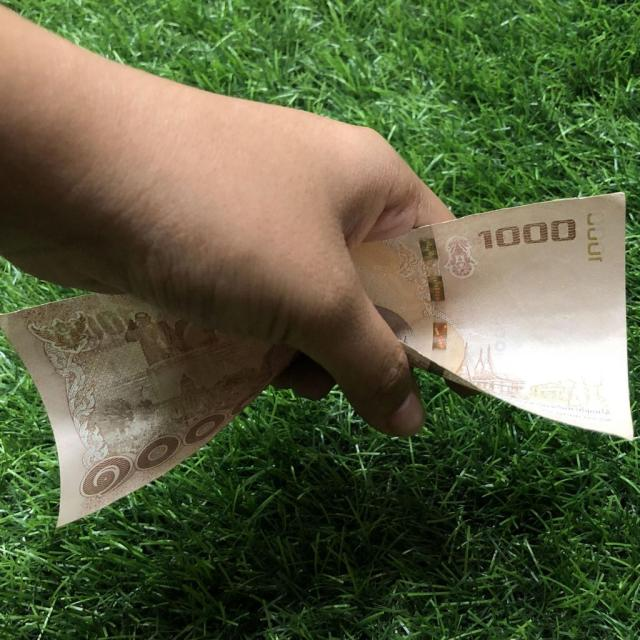THAI1000: (352, 193, 632, 439), (0, 295, 279, 526)
